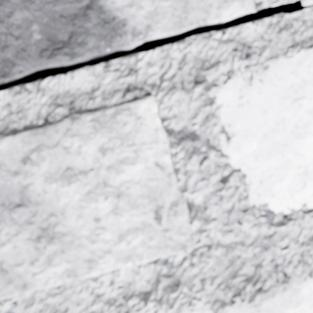brick: (0, 95, 194, 298), (0, 0, 255, 82), (211, 49, 312, 211), (227, 272, 312, 312), (193, 308, 213, 312), (302, 0, 312, 5), (157, 307, 166, 312)
crack: (0, 0, 312, 90)
